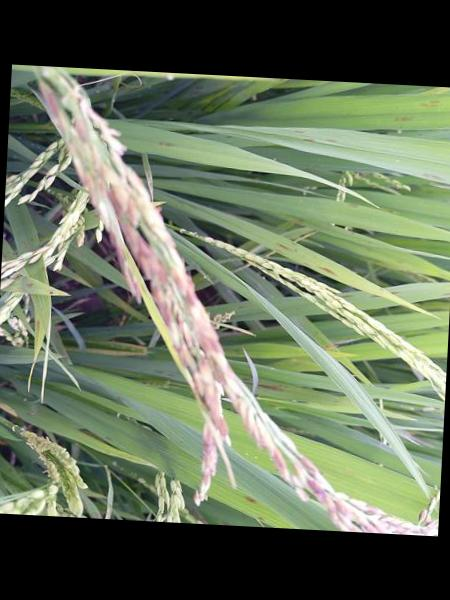Panicle Blight: (37, 65, 440, 536)
